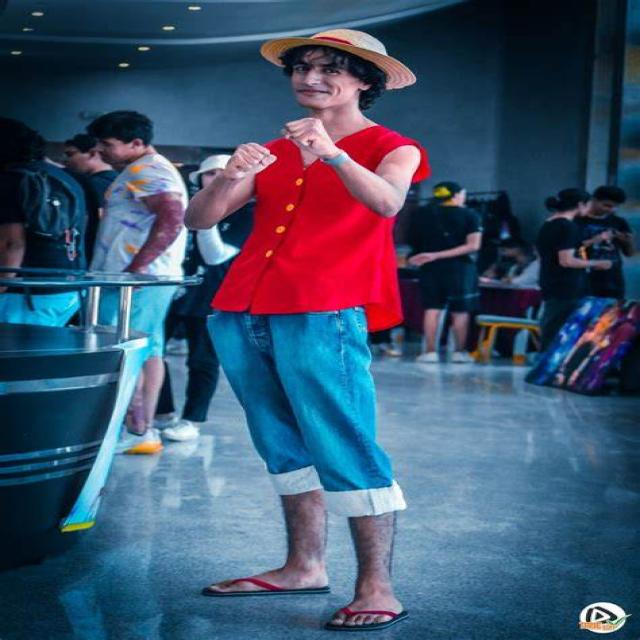stand: (227, 28, 416, 640), (79, 109, 202, 468)
